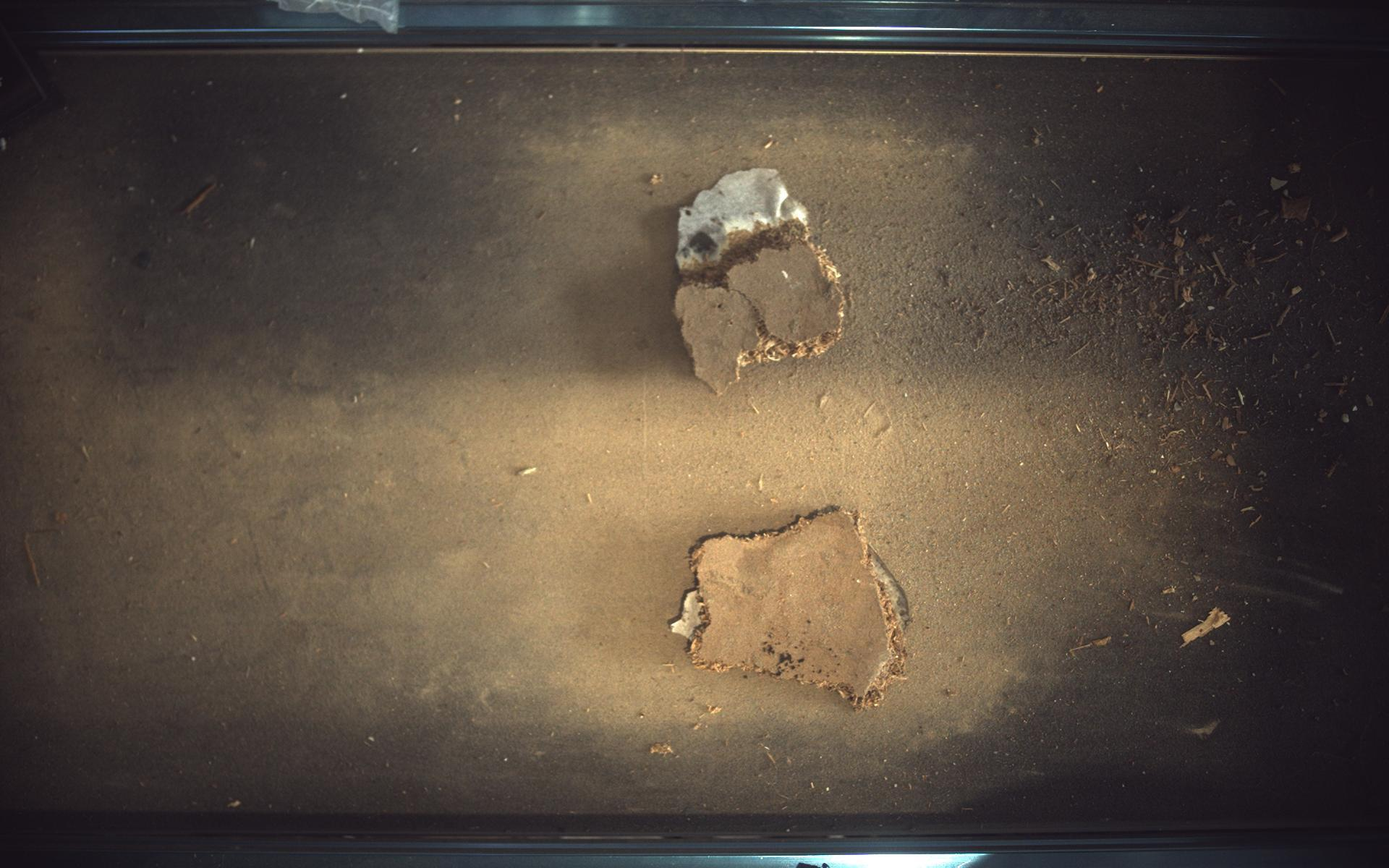wood: (671, 509, 912, 710), (676, 167, 847, 395)
